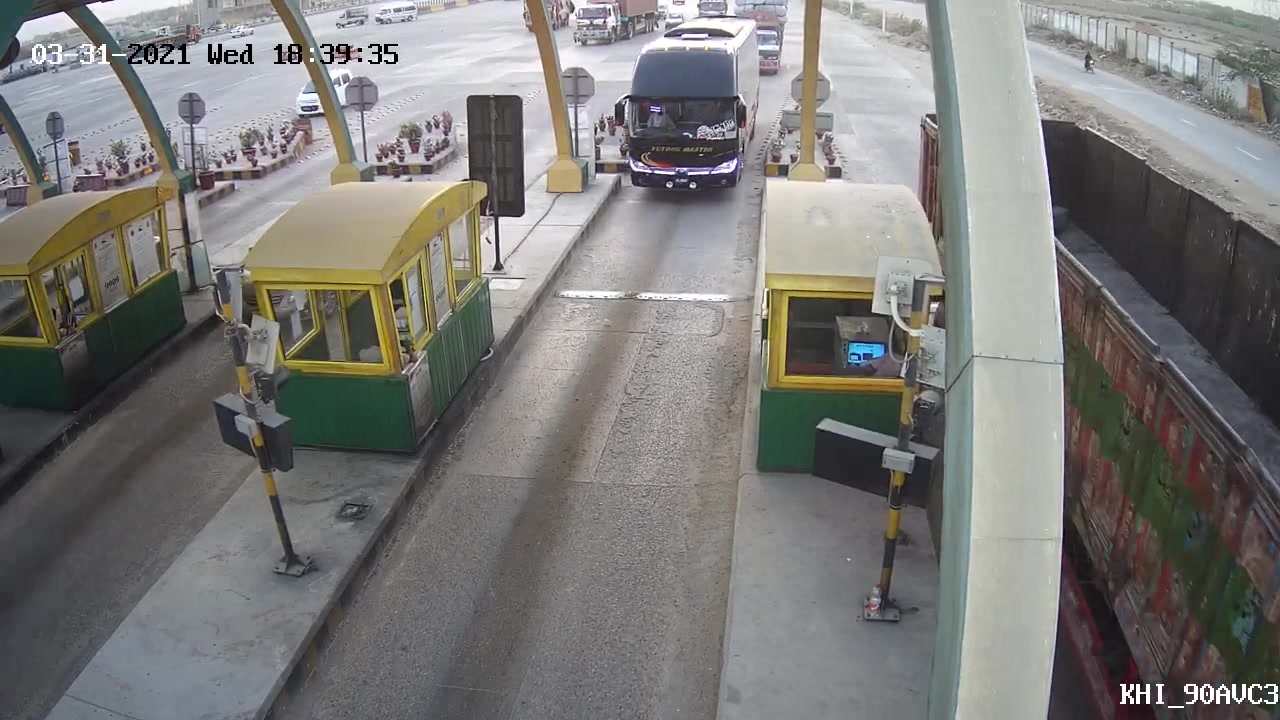F4: (608, 26, 757, 201)
